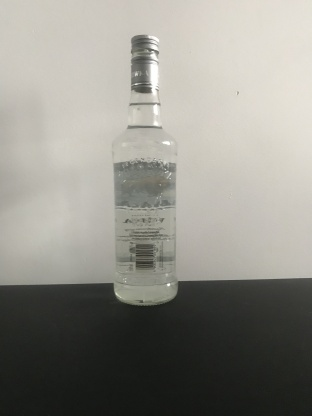nakretka: (129, 32, 160, 93)
